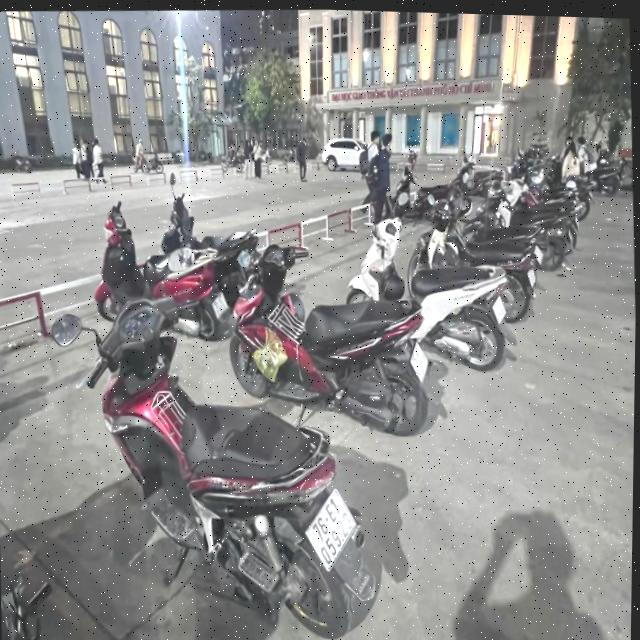car: (317, 133, 369, 178)
motorcycle: (39, 279, 401, 640), (222, 229, 437, 445), (342, 204, 520, 375), (85, 192, 232, 347)
plate: (298, 489, 362, 570)
